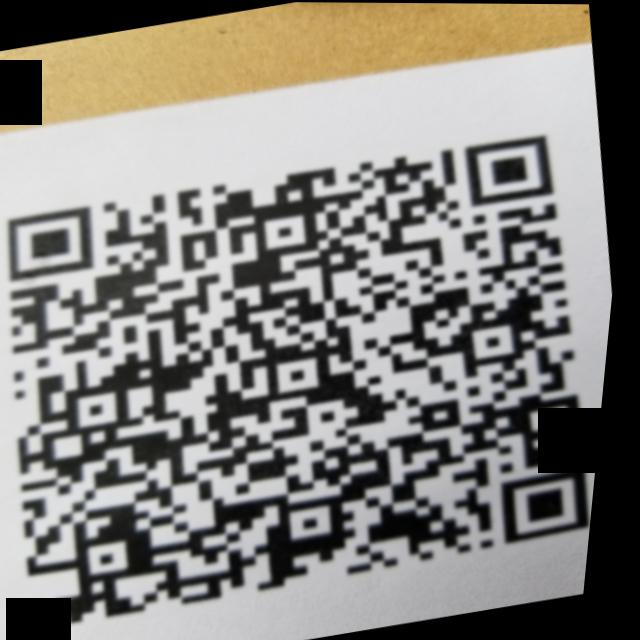QR_CODE: (0, 104, 632, 640)
